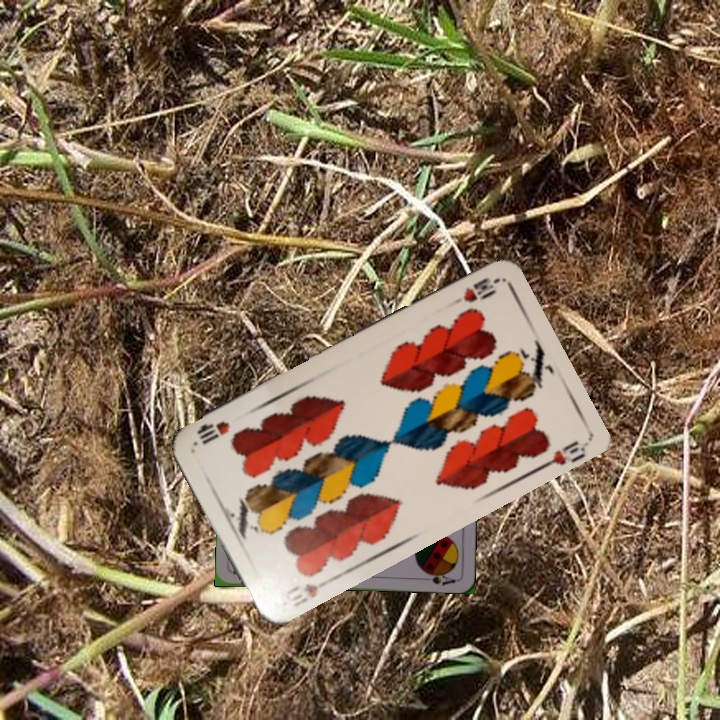H10: (445, 273, 498, 309), (277, 575, 331, 610)
